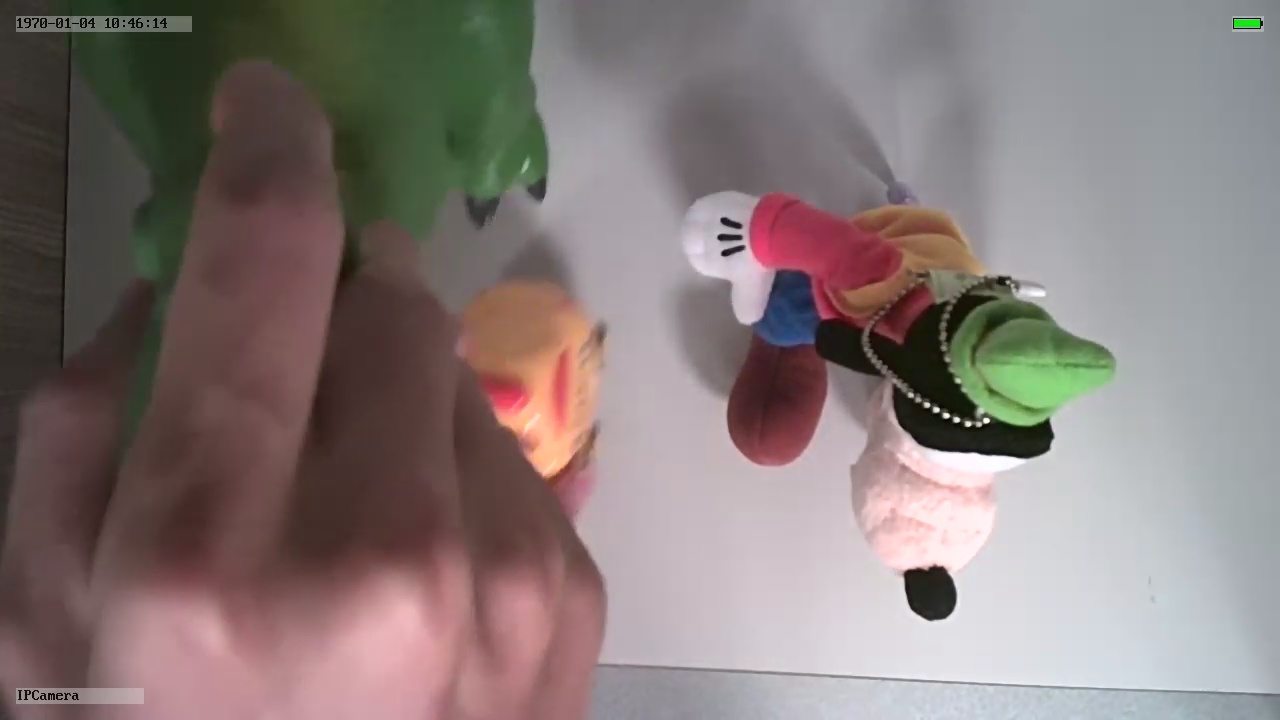goofy: (665, 181, 1122, 624)
